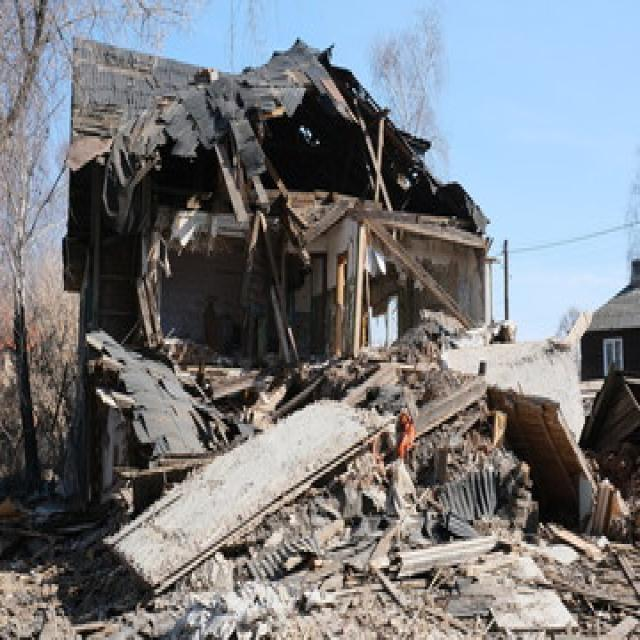Destroyed_building: (1, 0, 593, 640)
